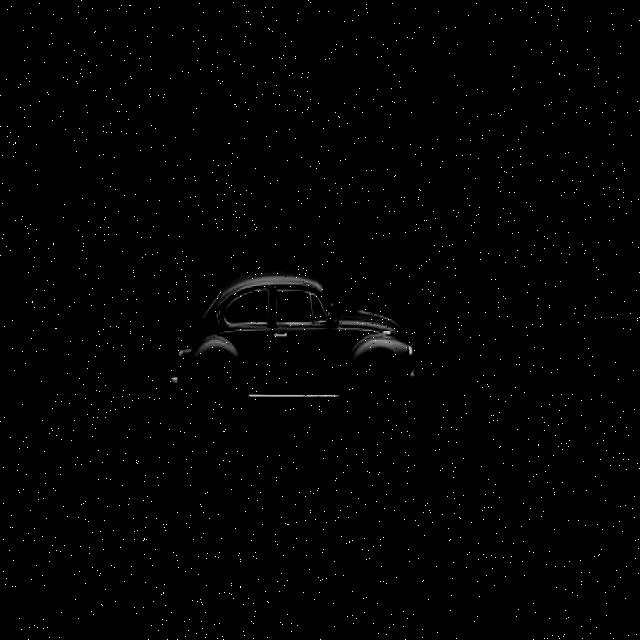car: (161, 270, 420, 421)
